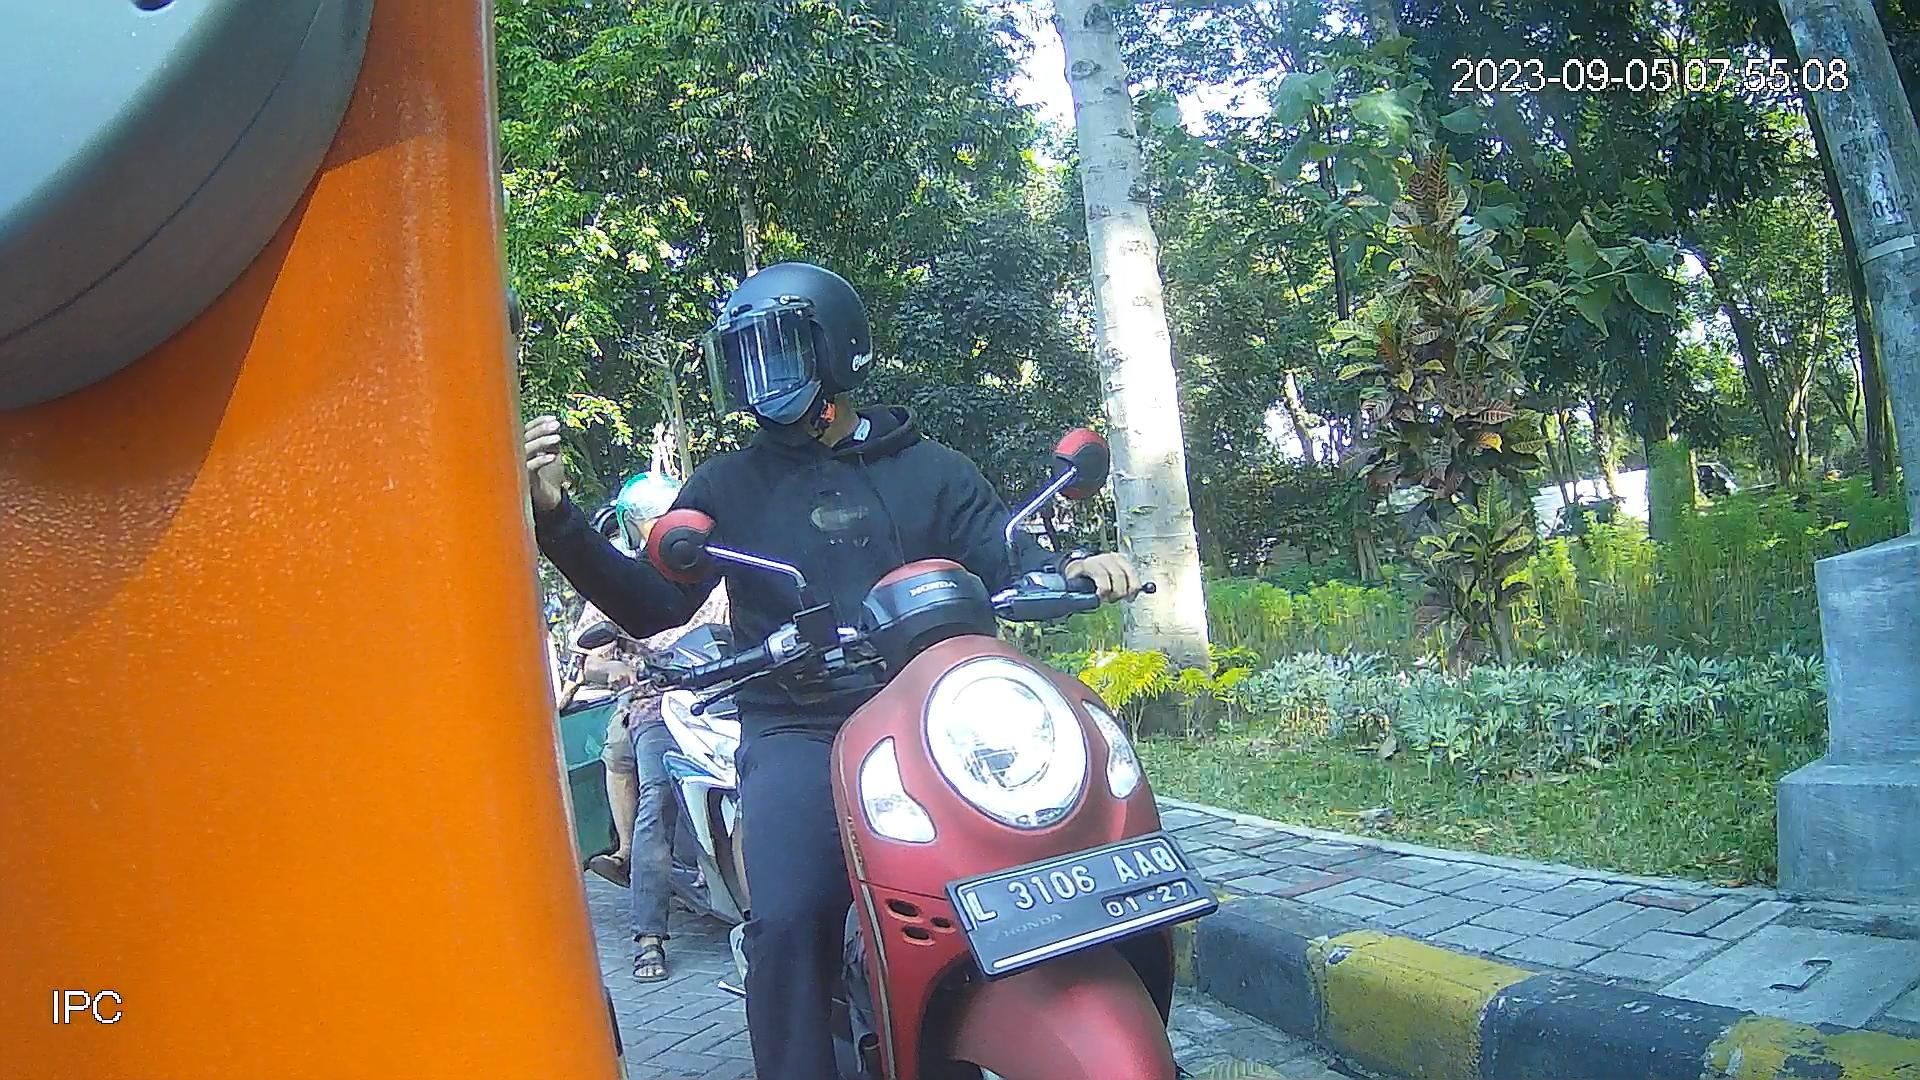plat: (939, 828, 1226, 981)
